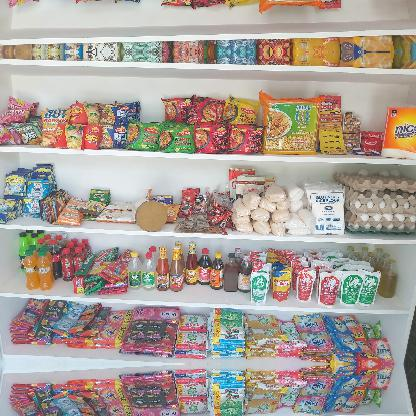Lady-s-Choice: (131, 198, 167, 232)
